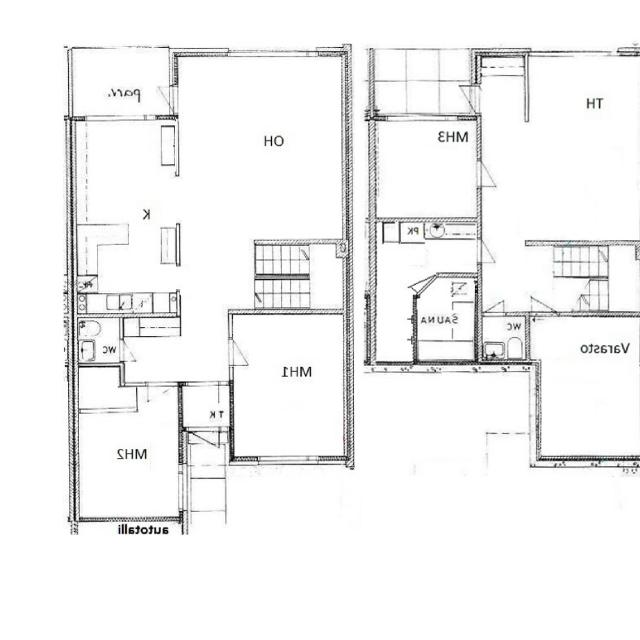door: (399, 257, 437, 295), (188, 381, 218, 416), (148, 381, 177, 415), (449, 85, 482, 112), (532, 284, 559, 316), (230, 338, 260, 365), (192, 426, 218, 457), (150, 87, 180, 112), (477, 162, 507, 186), (477, 240, 504, 263), (120, 340, 144, 360), (485, 292, 504, 316)
